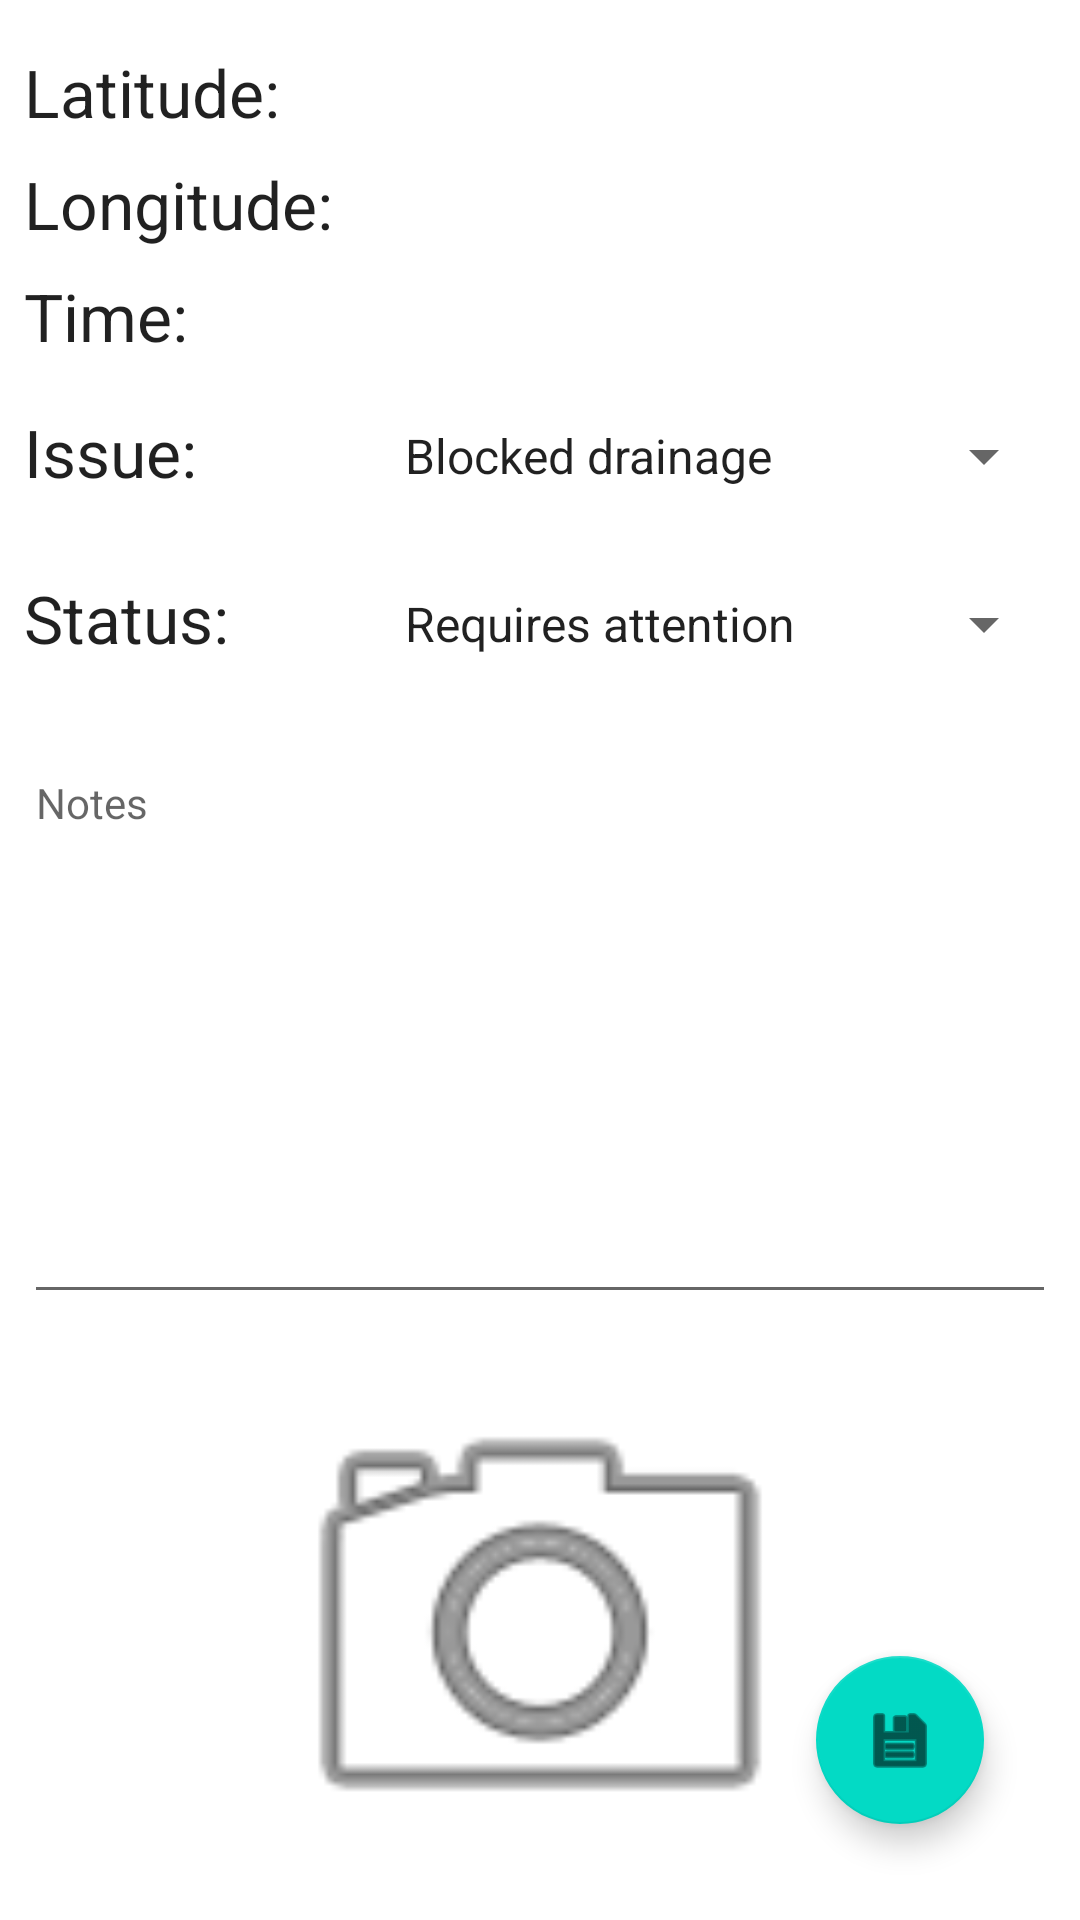

Screen size 1080 x 1920. Icon name, then its center in pixels as (x=x, y=y):
save: (x=900, y=1740)
